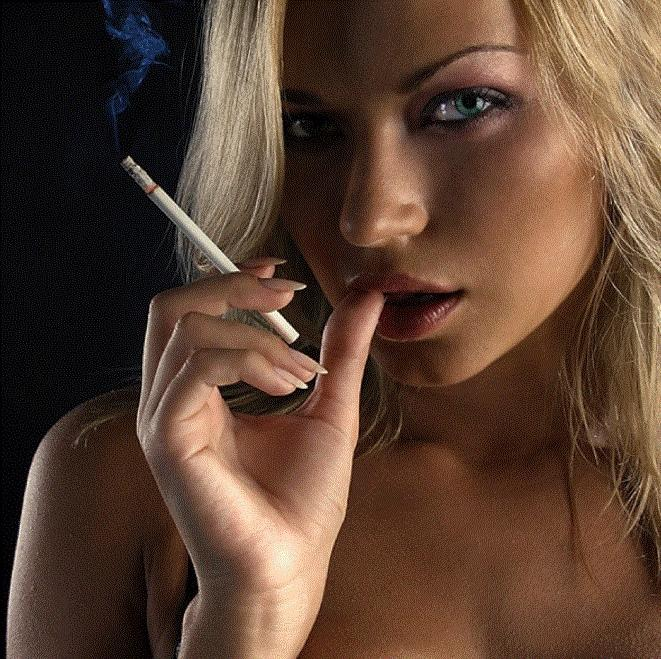cigarette: (120, 155, 301, 346)
